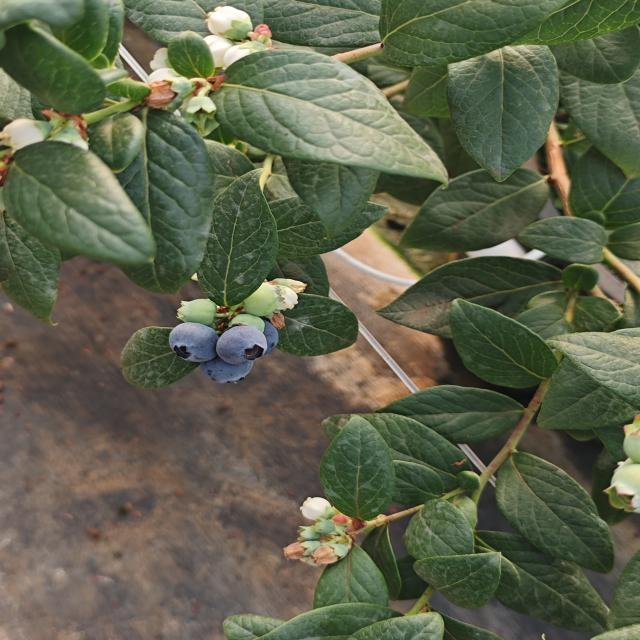ripe: (167, 325, 224, 368), (219, 324, 270, 366), (203, 365, 264, 388)
